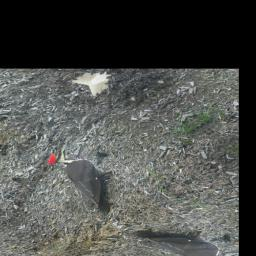Woodpecker: (24, 137, 148, 218)
